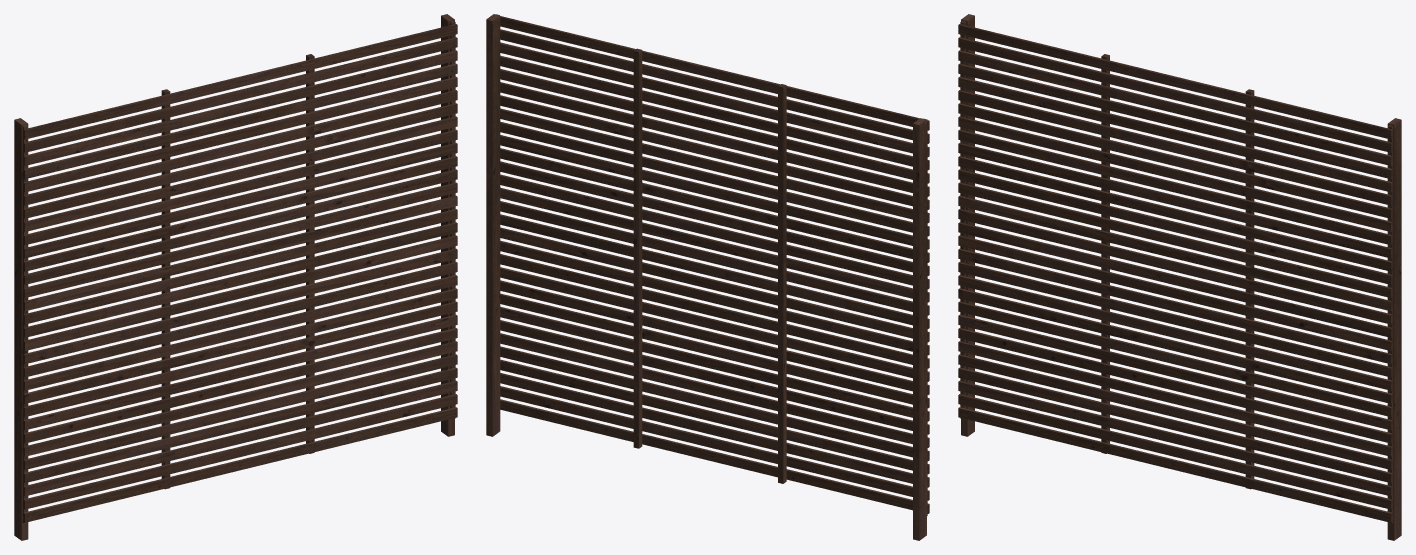
The model's file is EAdesignunitborder_h1835-w1999_darkpine.fbx.
The picture shows the model from 3 angles, left to right: view 1: azimuth 30°, elevation 25°; view 2: azimuth 150°, elevation 25°; view 3: azimuth 330°, elevation 25°; orthographic projection.
Visible parts, largest first — view 1: EAdesignunitborder_h1835-w1999_darkpine; view 2: EAdesignunitborder_h1835-w1999_darkpine; view 3: EAdesignunitborder_h1835-w1999_darkpine.
Boxes of the visible parts, x1,y1,x2,y2 form: EAdesignunitborder_h1835-w1999_darkpine: [14, 14, 457, 540]; EAdesignunitborder_h1835-w1999_darkpine: [486, 14, 929, 540]; EAdesignunitborder_h1835-w1999_darkpine: [958, 14, 1401, 540].
Bounding box in the file's own units: 200 × 183 × 8.4.
1 material, 1 textured.
